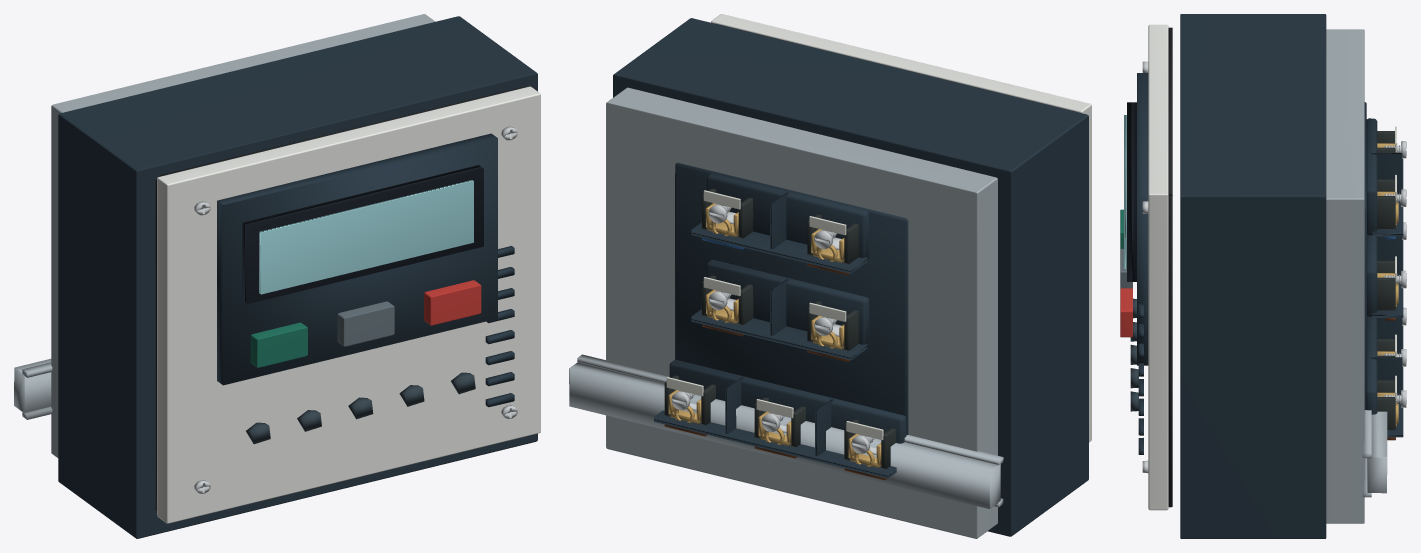
The model's file is plc_default.low.glb.
3 renders of one model, left to right at view 1: azimuth 30°, elevation 25°; view 2: azimuth 150°, elevation 25°; view 3: azimuth 270°, elevation 25°, orthographic. The views are drawn at different scales.
Visible parts, largest first — view 1: part:body, part:cover, part:cover · Original a463fd81, part:display, part:body.003, part:body.001, part:body.002, part:mounting · Original 2a8198d3, detail:enclosure-gasket-and-fixings · Detail rubber gasket, detail:enclosure-gasket-and-fixings · Detail zinc plated fix; view 2: part:body, part:terminals · Original a463fd81, part:mounting · Original 2a8198d3, part:cover, detail:terminal-clamp:I2 · Detail moulded engineering polyme, detail:terminal-clamp:N · Detail moulded engineering polymer, detail:terminal-clamp:I1 · Detail moulded engineering polyme, detail:terminal-clamp:L · Detail moulded engineering polymer, detail:terminal-clamp:COM · Detail moulded engineering polym, detail:terminal-clamp:Q1 · Detail moulded engineering polyme, detail:terminal-clamp:Q2 · Detail moulded engineering polyme; view 3: part:body, part:cover, part:terminals · Original a463fd81, part:cover · Original a463fd81, detail:enclosure-gasket-and-fixings · Detail rubber gasket, part:display, part:mounting · Original 2a8198d3, detail:terminal-clamp:I2 · Detail moulded engineering polyme, detail:terminal-clamp:N · Detail moulded engineering polymer, detail:terminal-clamp:Q2 · Detail moulded engineering polyme, part:body.003.
Part boxes in pixels (x1,y1,x2,y2): part:body: (51, 14, 537, 538); part:cover: (157, 86, 540, 523); part:cover · Original a463fd81: (217, 133, 514, 407); part:display: (242, 165, 483, 303); part:body.003: (424, 280, 481, 325); part:body.001: (250, 322, 307, 367); part:body.002: (337, 301, 394, 346); part:mounting · Original 2a8198d3: (14, 358, 52, 419); detail:enclosure-gasket-and-fixings · Detail rubber gasket: (155, 86, 524, 510); detail:enclosure-gasket-and-fixings · Detail zinc plated fix: (194, 126, 517, 493); part:body: (606, 18, 1088, 538); part:terminals · Original a463fd81: (654, 162, 908, 478); part:mounting · Original 2a8198d3: (569, 354, 1003, 508); part:cover: (711, 14, 1091, 442); detail:terminal-clamp:I2 · Detail moulded engineering polyme: (701, 275, 753, 325); detail:terminal-clamp:N · Detail moulded engineering polymer: (701, 188, 753, 238); detail:terminal-clamp:I1 · Detail moulded engineering polyme: (807, 301, 858, 351); detail:terminal-clamp:L · Detail moulded engineering polymer: (807, 214, 858, 264); detail:terminal-clamp:COM · Detail moulded engineering polym: (844, 419, 895, 469); detail:terminal-clamp:Q1 · Detail moulded engineering polyme: (754, 397, 805, 447); detail:terminal-clamp:Q2 · Detail moulded engineering polyme: (664, 375, 715, 425); part:body: (1180, 14, 1364, 538); part:cover: (1148, 24, 1168, 510); part:terminals · Original a463fd81: (1364, 102, 1403, 437); part:cover · Original a463fd81: (1137, 73, 1148, 454); detail:enclosure-gasket-and-fixings · Detail rubber gasket: (1168, 27, 1172, 507); part:display: (1124, 102, 1136, 281); part:mounting · Original 2a8198d3: (1362, 355, 1387, 497); detail:terminal-clamp:I2 · Detail moulded engineering polyme: (1377, 260, 1396, 310); detail:terminal-clamp:N · Detail moulded engineering polymer: (1377, 179, 1396, 228); detail:terminal-clamp:Q2 · Detail moulded engineering polyme: (1377, 380, 1396, 429); part:body.003: (1120, 288, 1132, 337).
Size of the model in its own units: 1.33 by 1.1 by 0.831.
